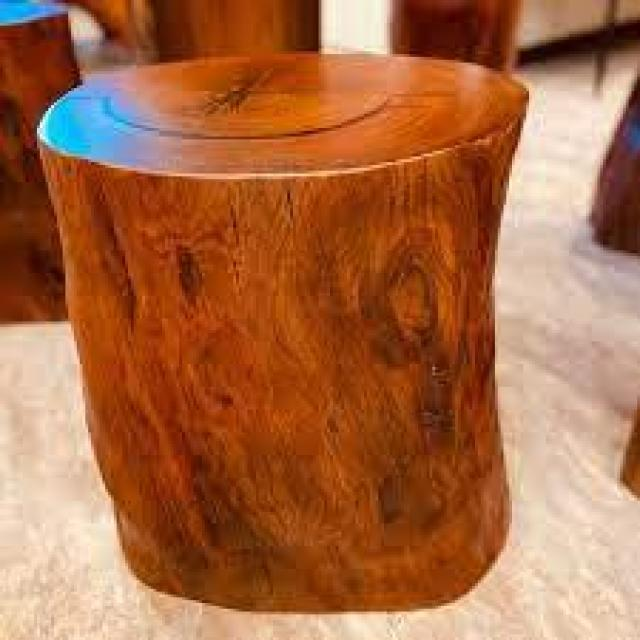chair: (38, 50, 550, 613)
